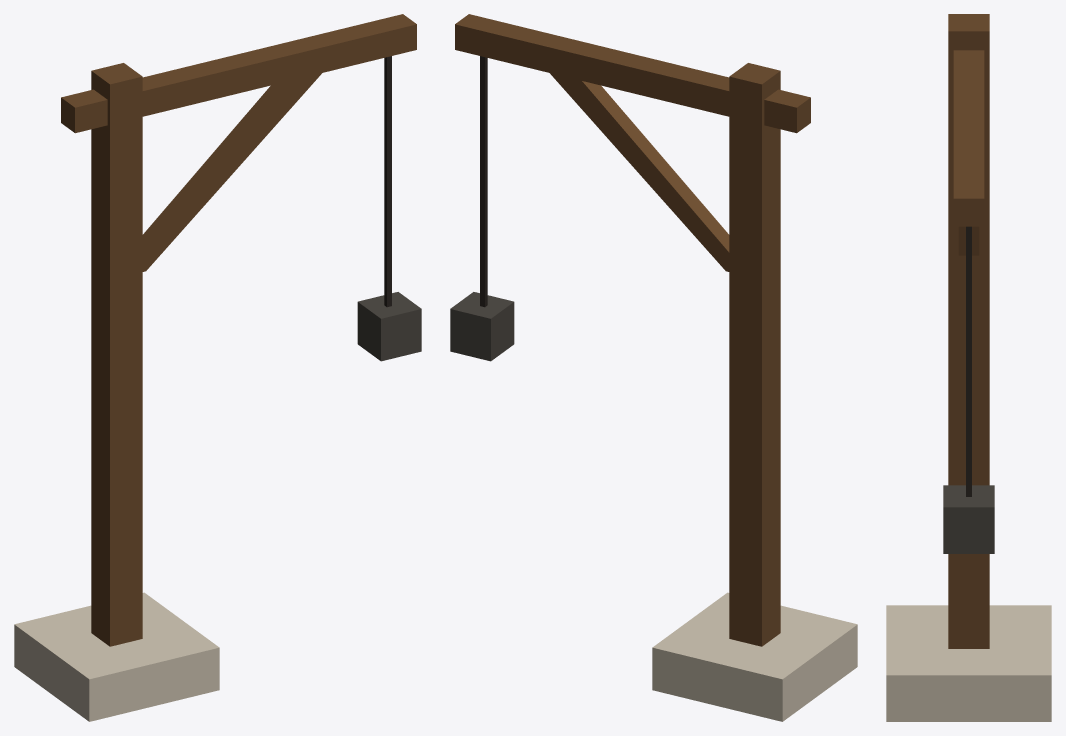
Rendered from crane.glb.
3 views of the same model, side by side, from view 1: azimuth 30°, elevation 25°; view 2: azimuth 150°, elevation 25°; view 3: azimuth 270°, elevation 25° (orthographic). The views are drawn at different scales.
Visible parts, largest first — view 1: crane; view 2: crane; view 3: crane.
Part boxes in pixels (x1,y1,x2,y2): crane: (14, 14, 421, 721); crane: (450, 14, 857, 721); crane: (886, 14, 1051, 721).
Bounding box in the file's own units: 0.88 × 1.42 × 0.32.
